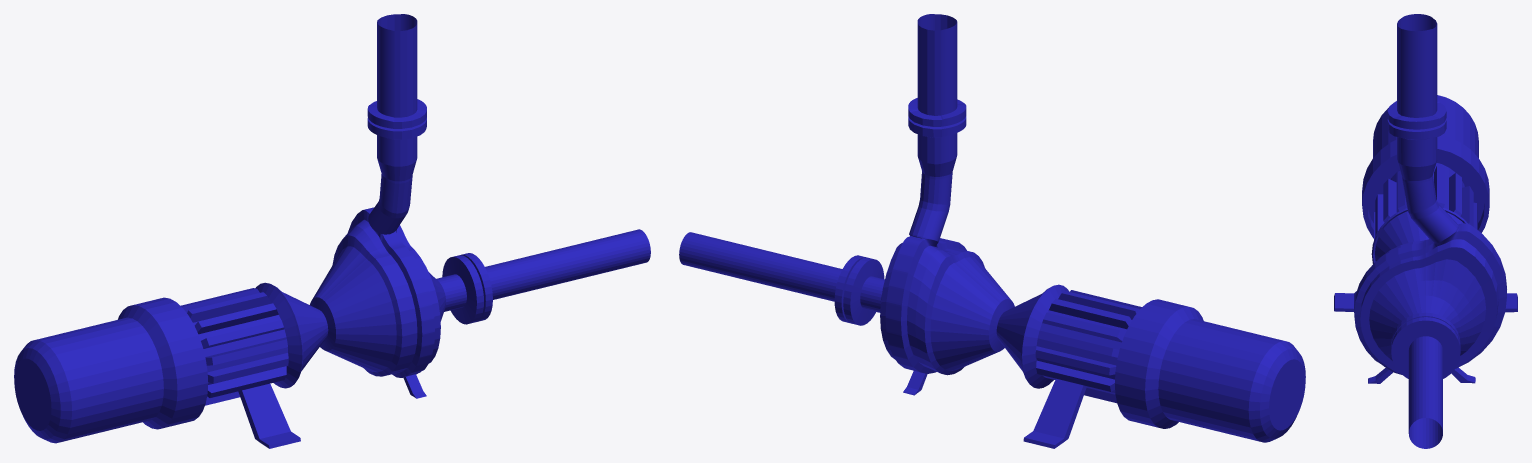
The model's file is pump.gltf.
3 views of the same model, side by side, from view 1: azimuth 30°, elevation 25°; view 2: azimuth 150°, elevation 25°; view 3: azimuth 270°, elevation 25° (orthographic).
Visible parts, largest first — view 1: Cylinder; view 2: Cylinder; view 3: Cylinder.
Part boxes in pixels (left/top/right/bottom): Cylinder: left=14, top=14, right=650, bottom=448; Cylinder: left=679, top=14, right=1305, bottom=448; Cylinder: left=1334, top=14, right=1517, bottom=448.
Bounding box in the file's own units: 13.29 × 7.47 × 3.46.
